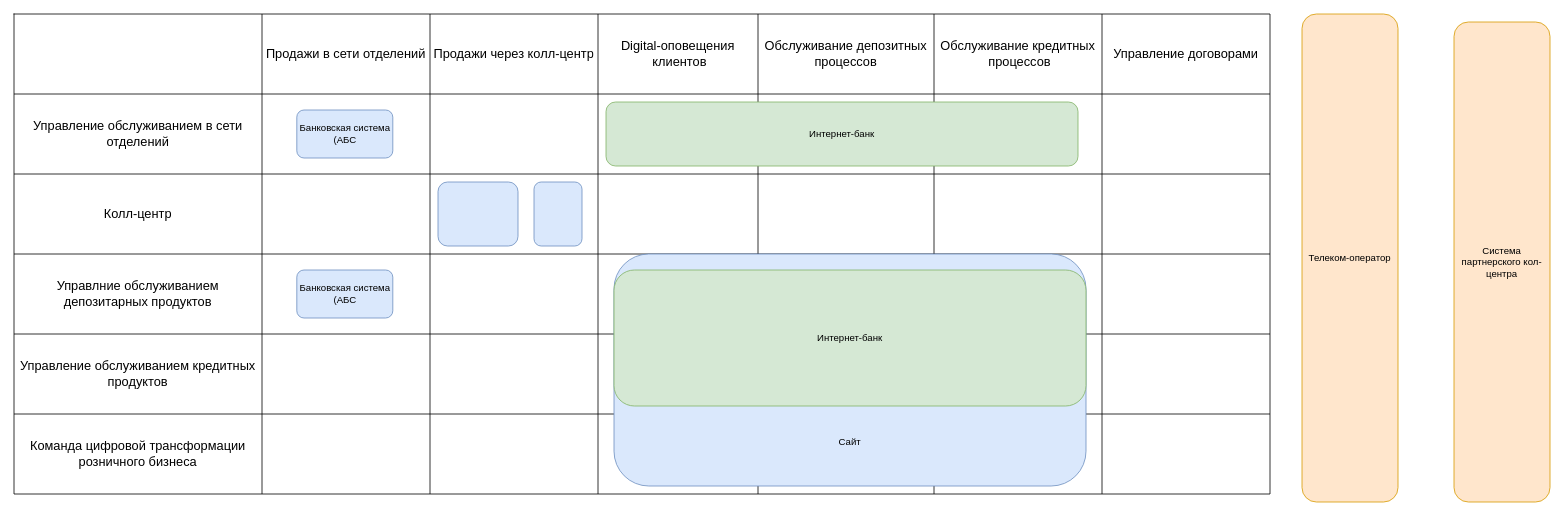
The diagram is 1564 pixels wide and 516 high, and some of its shapes have lost their labels. The centre of each missing label's shape, as x and y in pixels:
Система кол-центра: the point at 477,213
СМС-шлюз: the point at 557,213
